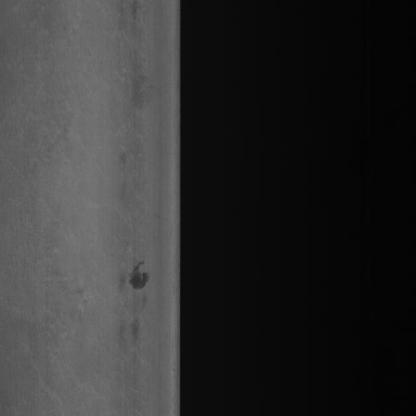oil_spot: (124, 254, 152, 304)
